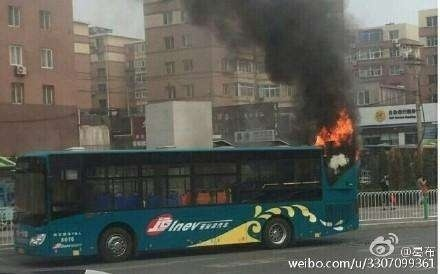fire: (314, 108, 356, 146)
